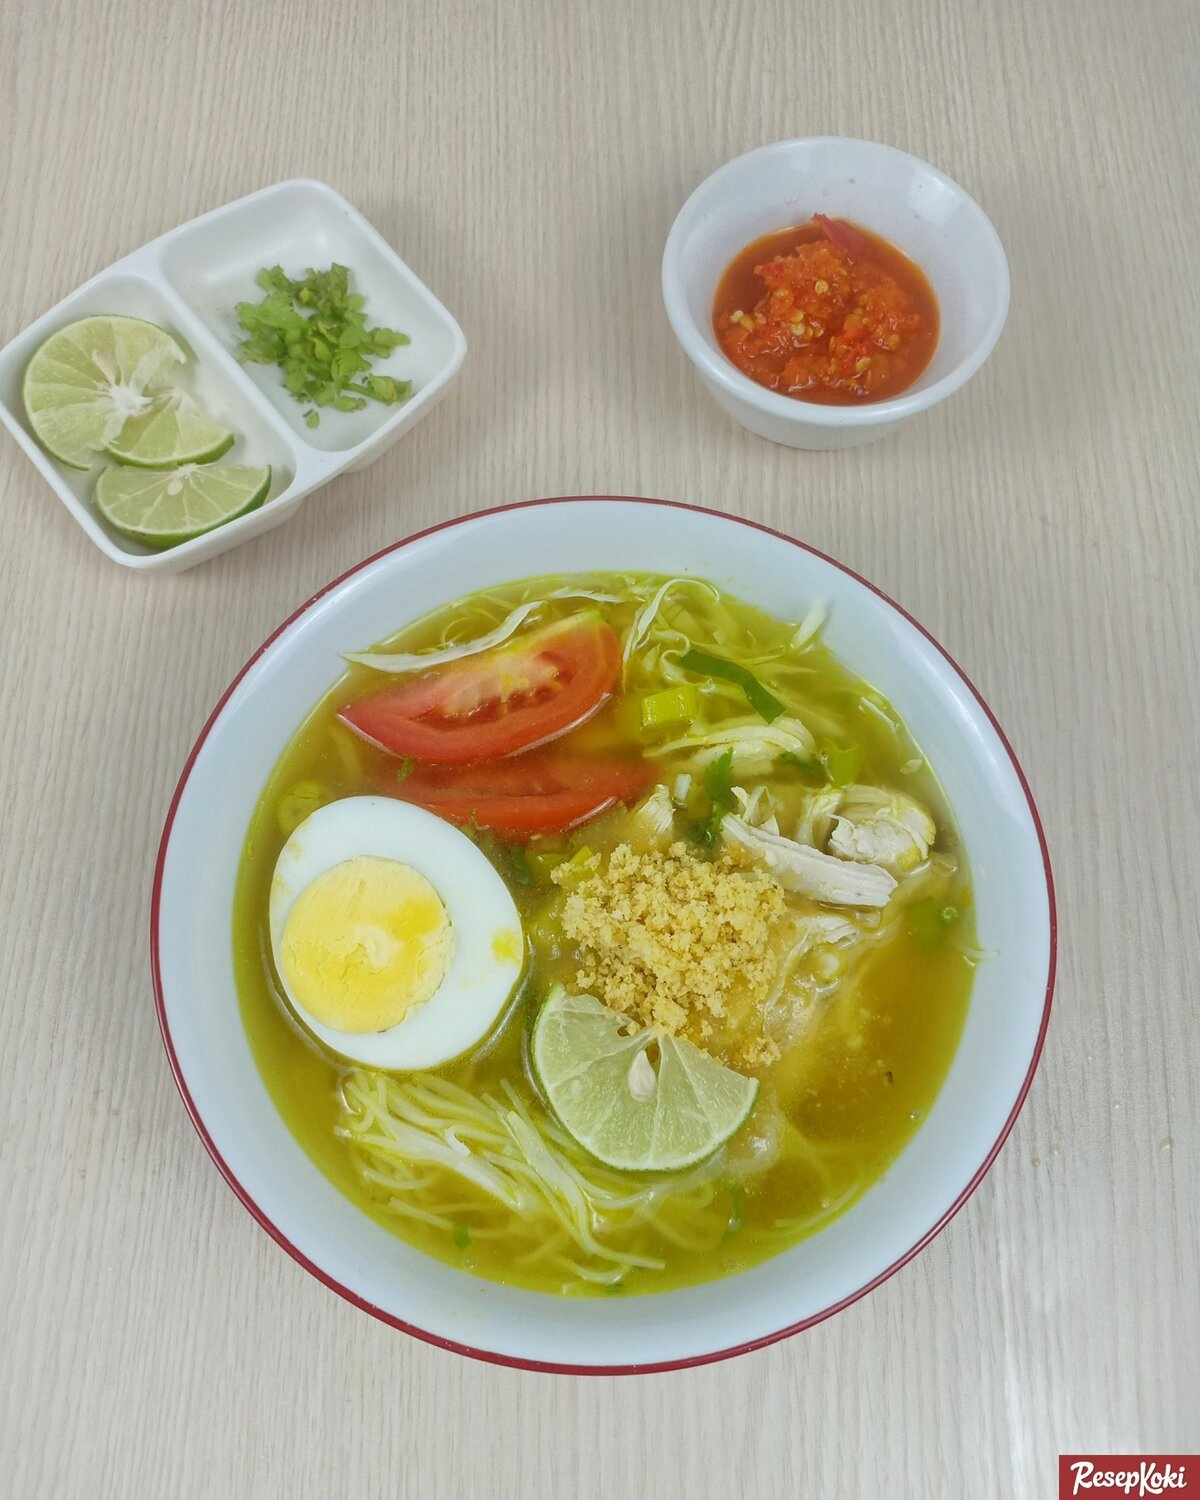soto: (169, 538, 1005, 1371)
